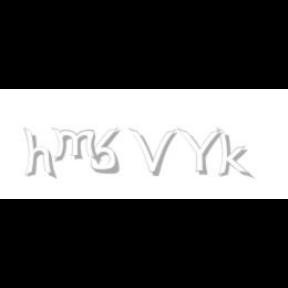6: (90, 128, 119, 176)
V: (129, 128, 177, 176)
Y: (176, 128, 222, 176)
h: (23, 128, 58, 180)
k: (216, 128, 254, 180)
m: (50, 128, 102, 162)
